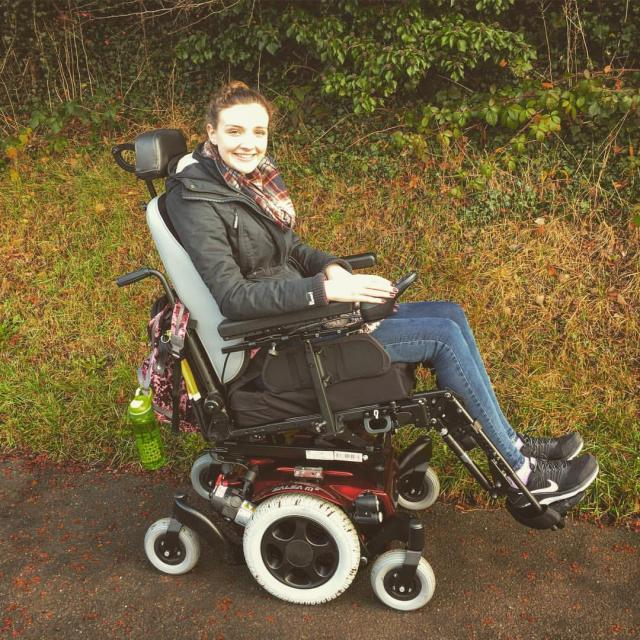wheelchairs: (96, 119, 587, 610)
